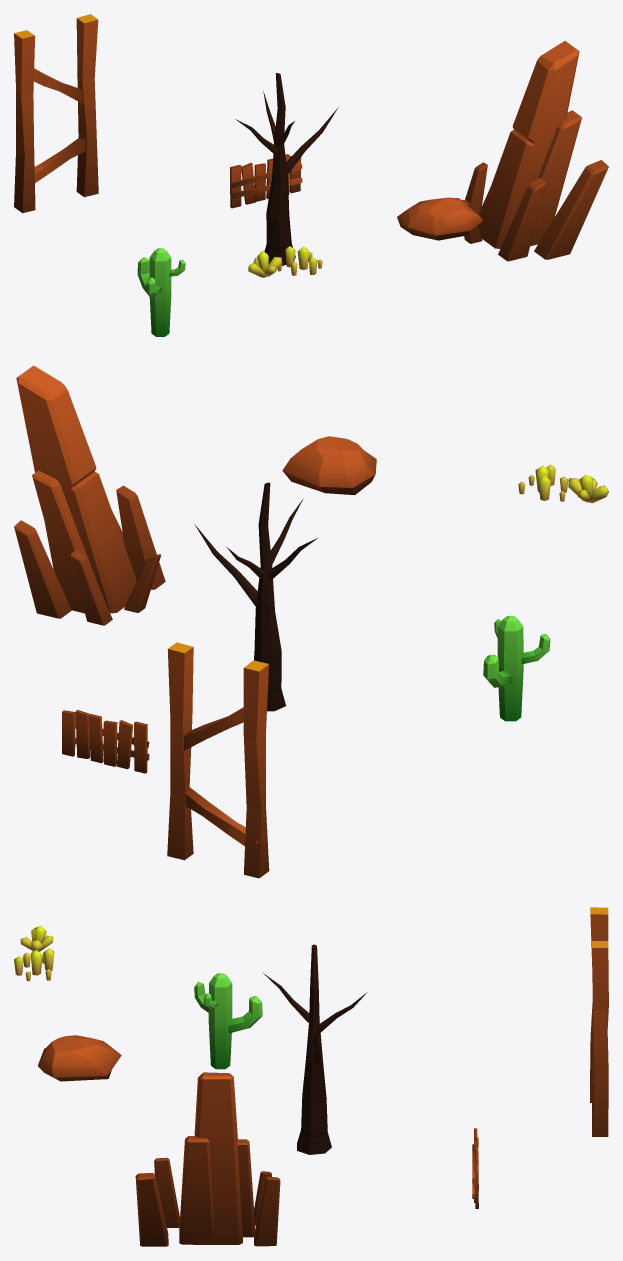
The model's file is nature-objects-2.fbx.
The picture shows the model from 3 angles, top to bottom: view 1: azimuth 30°, elevation 25°; view 2: azimuth 150°, elevation 25°; view 3: azimuth 270°, elevation 25°; orthographic projection. The views are drawn at different scales.
Visible parts, largest first — view 1: rock.008, wood.003, tree, rock.001, plant, fence.002, Box017.001, Box018.001; view 2: rock.008, wood.003, tree, rock.001, fence.002, plant, Box017.001, Box018.001; view 3: rock.008, tree, wood.003, plant, rock.001, Box017.001, Box018.001, fence.002.
Part boxes in pixels (x1,y1,x2,y2): rock.008: [461, 41, 608, 261]; wood.003: [14, 14, 98, 213]; tree: [235, 73, 338, 265]; rock.001: [397, 197, 483, 240]; plant: [137, 248, 185, 336]; fence.002: [230, 154, 302, 208]; Box017.001: [278, 246, 322, 275]; Box018.001: [248, 250, 282, 277]; rock.008: [14, 365, 165, 625]; wood.003: [167, 642, 269, 878]; tree: [194, 482, 318, 711]; rock.001: [282, 436, 376, 495]; fence.002: [62, 710, 149, 773]; plant: [483, 615, 550, 721]; Box017.001: [518, 464, 568, 501]; Box018.001: [568, 474, 608, 503]; rock.008: [135, 1072, 280, 1246]; tree: [263, 944, 367, 1154]; wood.003: [590, 907, 608, 1136]; plant: [194, 973, 262, 1069]; rock.001: [38, 1035, 121, 1081]; Box017.001: [14, 948, 54, 981]; Box018.001: [20, 925, 53, 951]; fence.002: [472, 1128, 478, 1208].
Bounding box in the file's own units: 1941 × 864 × 2126.
